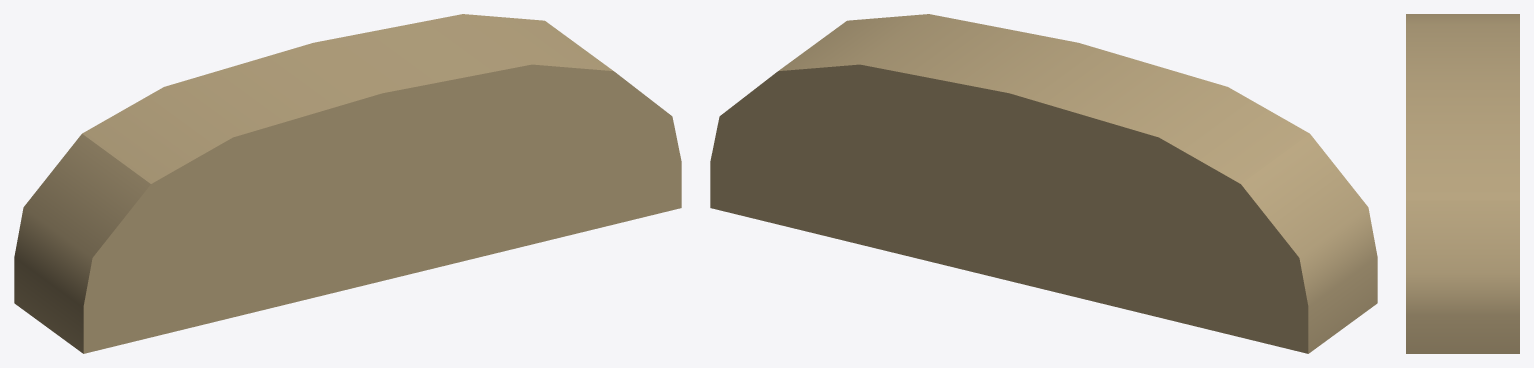
The model's file is 20C_SendBag_120.fbx.
The picture shows the model from 3 angles, left to right: view 1: azimuth 30°, elevation 25°; view 2: azimuth 150°, elevation 25°; view 3: azimuth 270°, elevation 25°; orthographic projection. The views are drawn at different scales.
Parts seen in each view (by area): view 1: 20C_20C_SendBag_120; view 2: 20C_20C_SendBag_120; view 3: 20C_20C_SendBag_120.
Boxes of the visible parts, bbox=[...] form: 20C_20C_SendBag_120: bbox=[14, 14, 681, 353]; 20C_20C_SendBag_120: bbox=[710, 14, 1377, 353]; 20C_20C_SendBag_120: bbox=[1406, 14, 1519, 353].
Size of the model in its own units: 40 by 12 by 8.
